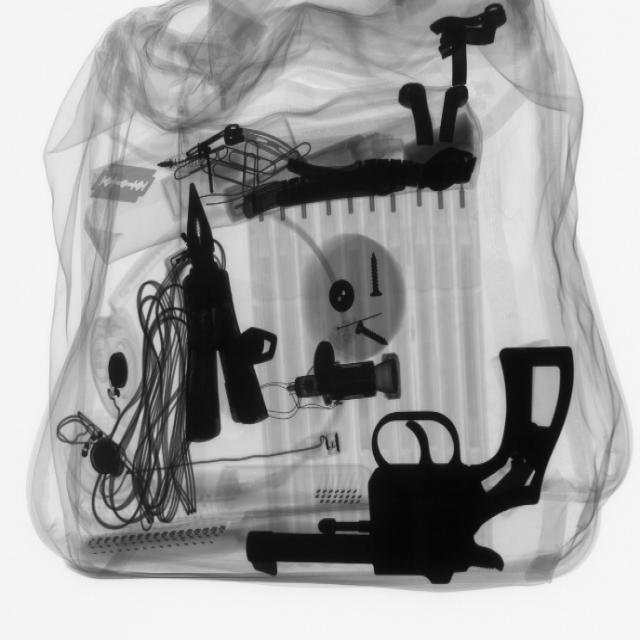BLADE: (86, 158, 163, 211)
GUN: (249, 338, 587, 583)
SCREW: (350, 315, 400, 355), (362, 252, 391, 306)
